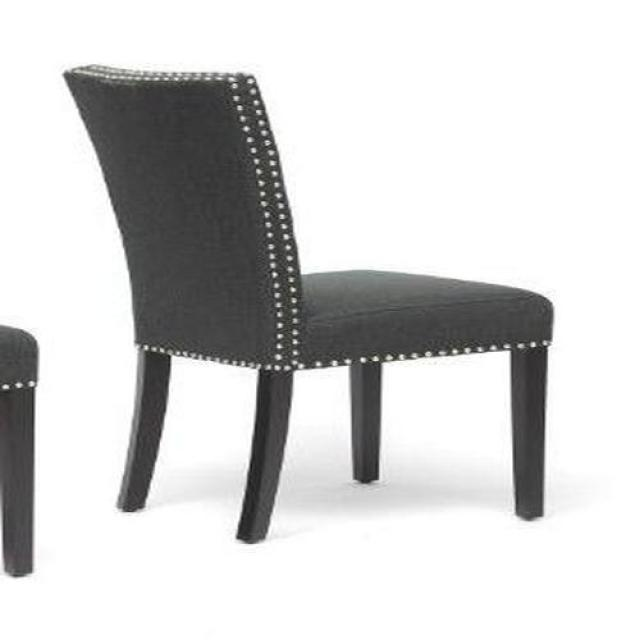chair: (63, 64, 556, 547)
